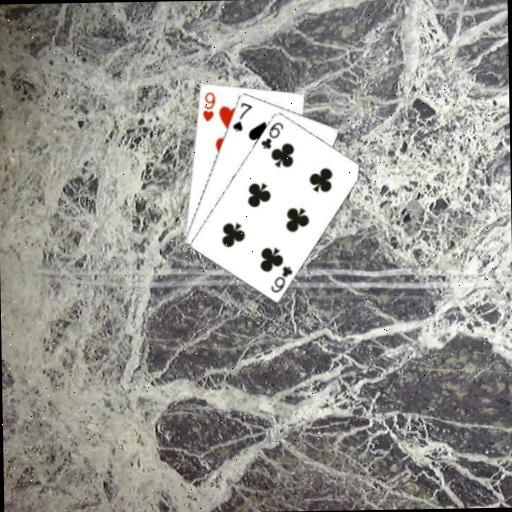6C: (258, 118, 286, 150), (267, 263, 295, 295)
7S: (229, 99, 254, 133)
9H: (199, 89, 217, 123)
